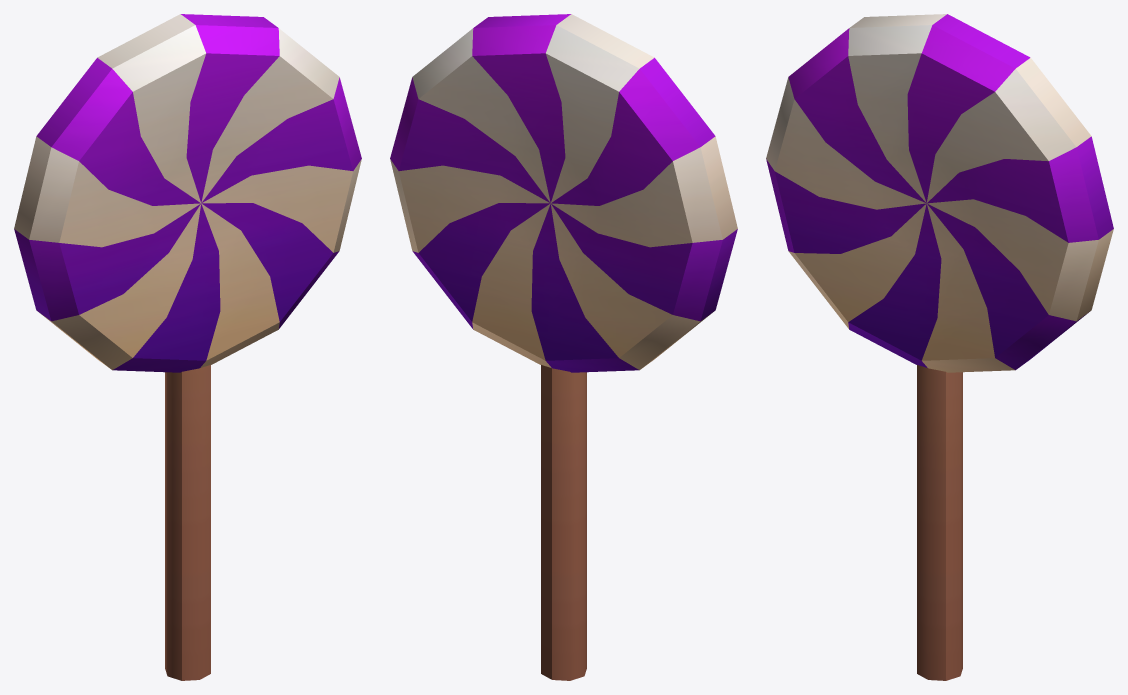
The model's file is lollipop_purple.glb.
3 renders of one model, left to right at view 1: azimuth 30°, elevation 25°; view 2: azimuth 150°, elevation 25°; view 3: azimuth 330°, elevation 25°, orthographic.
Visible parts, largest first — view 1: lollipop_purple; view 2: lollipop_purple; view 3: lollipop_purple.
Boxes of the visible parts, bbox=[...] form: lollipop_purple: bbox=[14, 14, 361, 680]; lollipop_purple: bbox=[390, 14, 737, 680]; lollipop_purple: bbox=[766, 14, 1113, 680].
Bounding box in the file's own units: 0.65 × 1.23 × 0.1239.
1 material, 1 textured.
